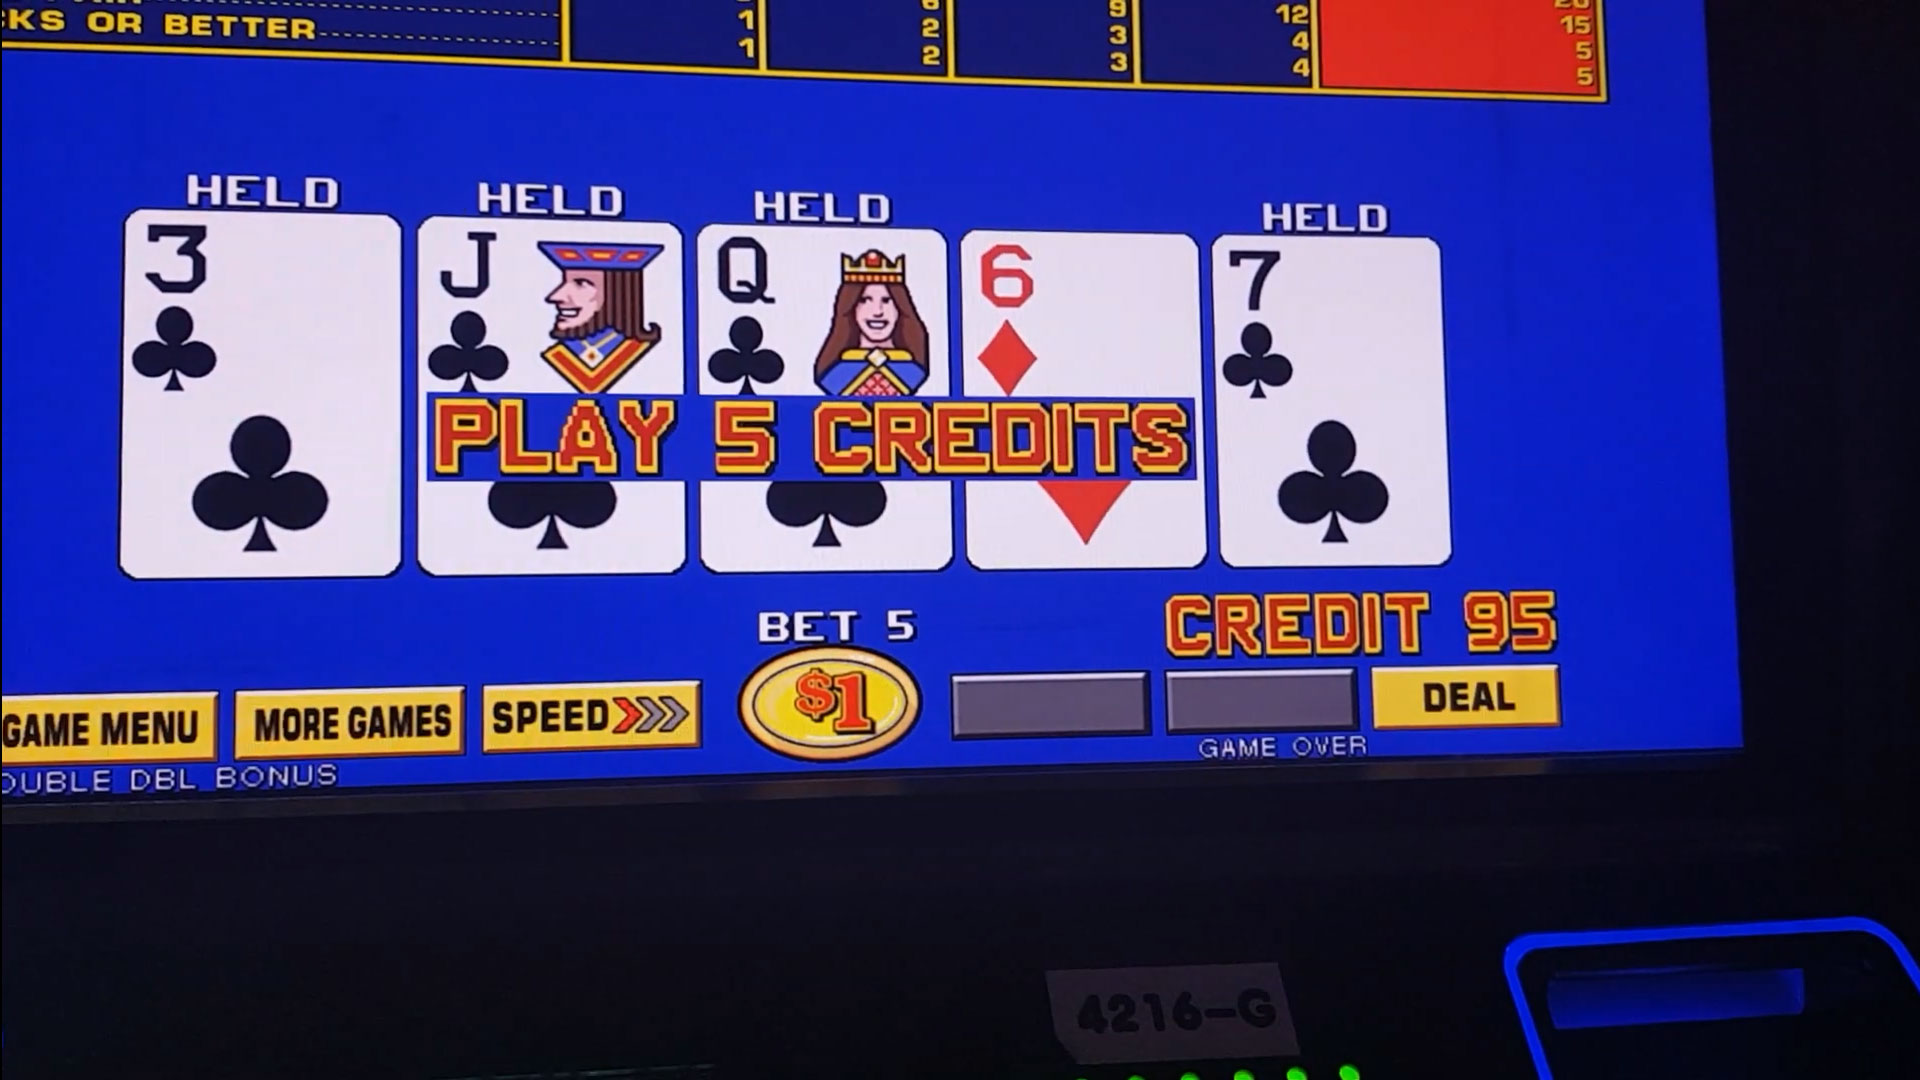C3: (132, 216, 392, 414)
C7: (1216, 240, 1432, 398)
CJ: (422, 225, 678, 388)
CQ: (703, 231, 943, 392)
D6: (967, 233, 1196, 396)
